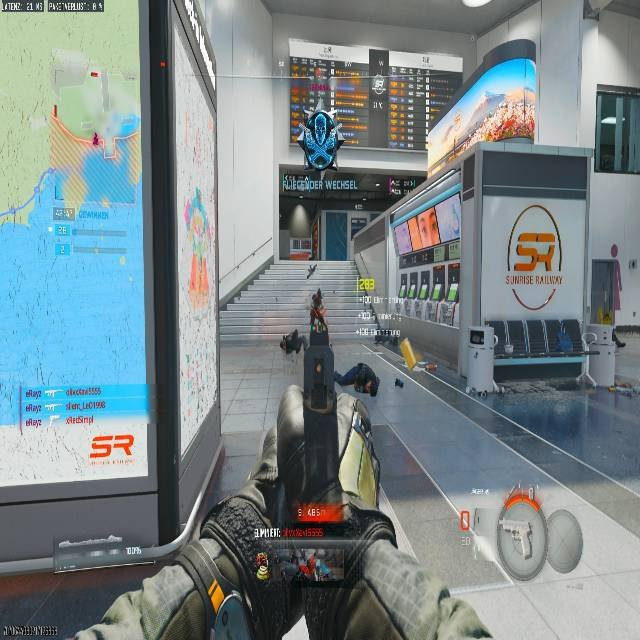head: (314, 289, 322, 299)
player: (291, 106, 344, 170), (310, 289, 328, 332)
